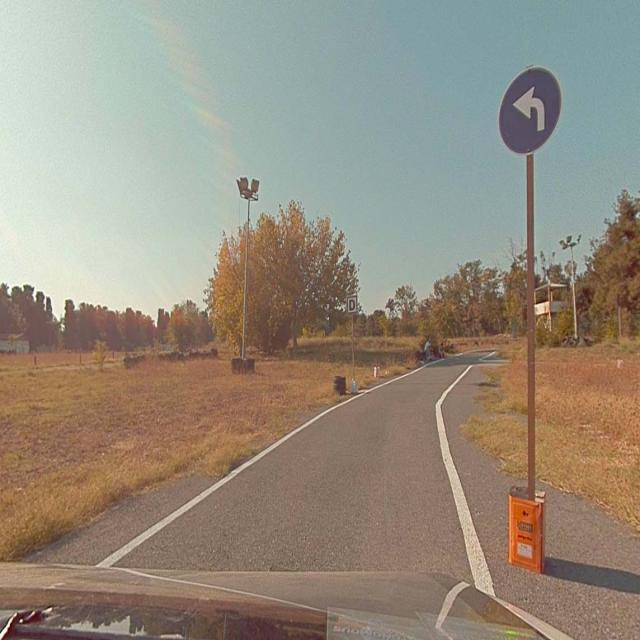durak: (347, 297, 357, 312)
sol: (500, 67, 561, 152)
